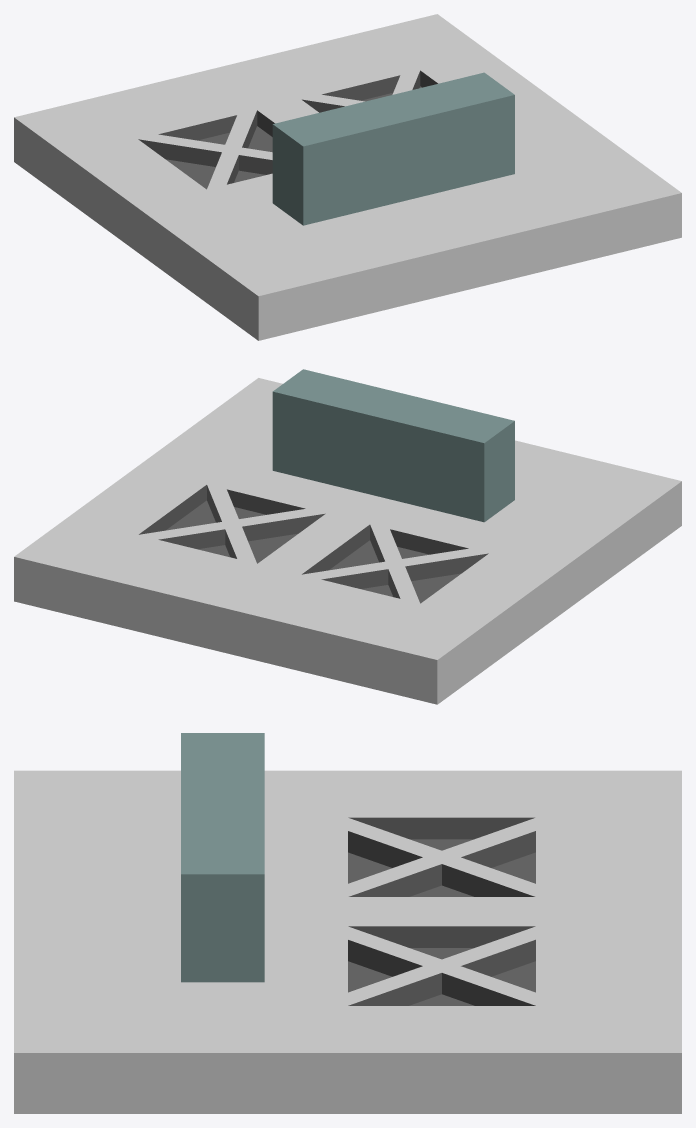
File: povozena.fbx
The picture shows the model from 3 angles, top to bottom: view 1: azimuth 30°, elevation 25°; view 2: azimuth 150°, elevation 25°; view 3: azimuth 270°, elevation 25°; orthographic projection. The views are drawn at different scales.
Parts seen in each view (by area): view 1: Model; view 2: Model; view 3: Model.
Boxes of the visible parts, x1=… form: Model: x1=14, y1=14, x2=681, y2=340; Model: x1=14, y1=369, x2=681, y2=704; Model: x1=14, y1=733, x2=681, y2=1113.
Size of the model in its own units: 873 by 244 by 873.
